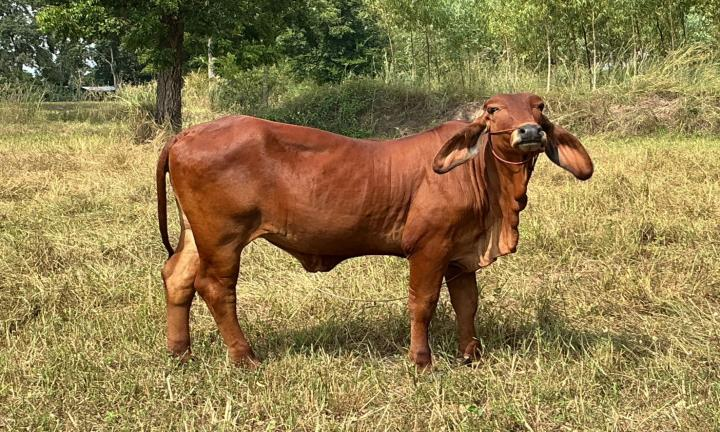Brahman: (156, 93, 593, 368)
